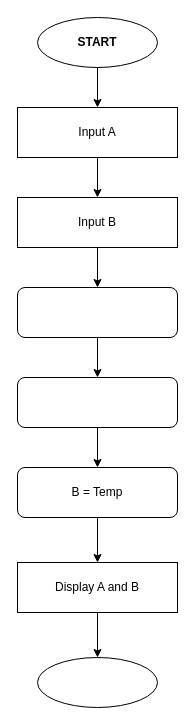
Some shapes in this 195 by 725 pixel diagram are drawn without their labels. The box of each missing label's shape, as (x1, y1, x2, y2) in pixels:
A = B: (16, 376, 178, 428)
END: (36, 656, 158, 708)
Temp = A: (16, 286, 178, 338)
